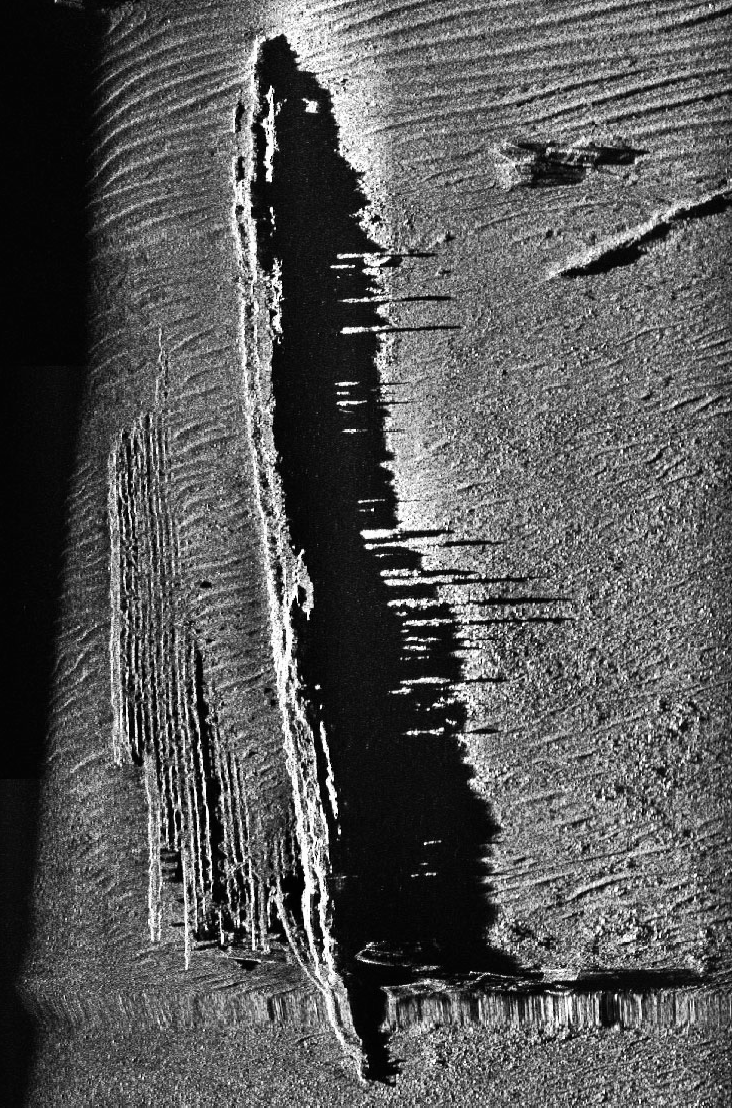ship: (218, 21, 435, 1084)
